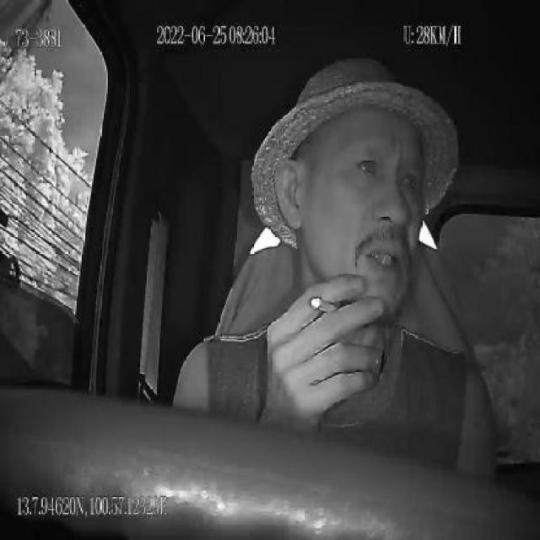smoking: (308, 291, 343, 317)
